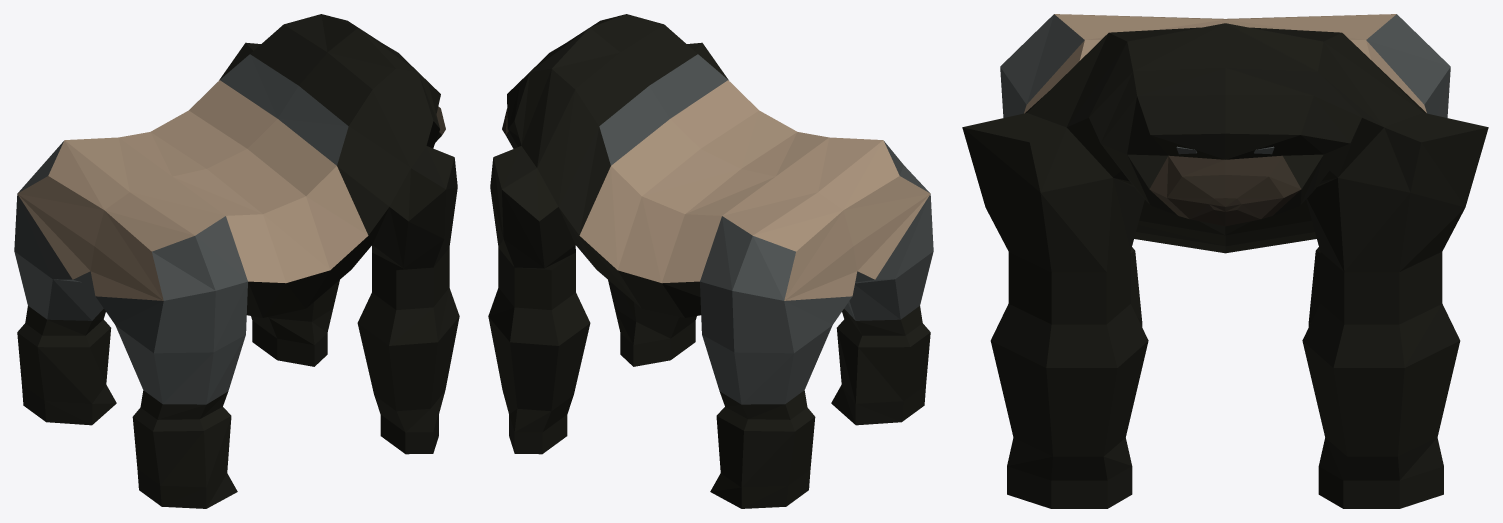
File: gorilla.glb
3 views of the same model, side by side, from view 1: azimuth 30°, elevation 25°; view 2: azimuth 150°, elevation 25°; view 3: azimuth 270°, elevation 25° (orthographic). The views are drawn at different scales.
Size of the model in its own units: 1 by 1 by 1.
